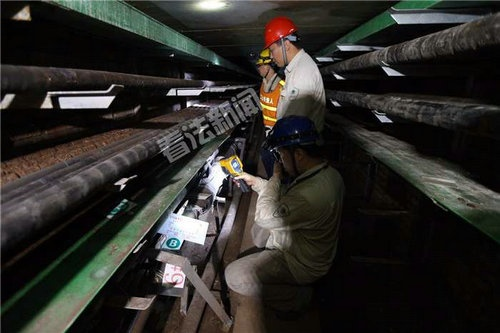blue: (269, 114, 320, 174)
red: (263, 16, 299, 68)
yellow: (254, 48, 275, 76)
